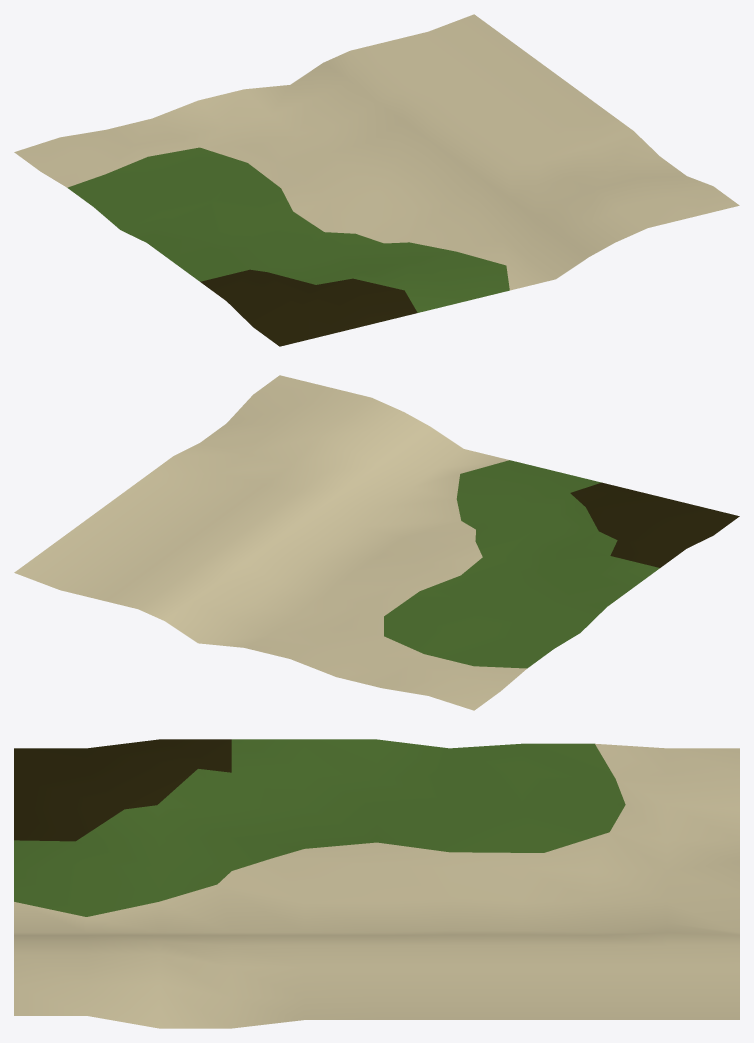
File: ENV_Terrain_01.fbx
3 views of the same model, one above another, from view 1: azimuth 30°, elevation 25°; view 2: azimuth 150°, elevation 25°; view 3: azimuth 270°, elevation 25° (orthographic). The views are drawn at different scales.
Visible parts, largest first — view 1: pPlane1; view 2: pPlane1; view 3: pPlane1.
Part boxes in pixels (x1,y1,x2,y2): pPlane1: (14, 14, 739, 346); pPlane1: (14, 375, 739, 710); pPlane1: (14, 739, 739, 1028).
Size of the model in its own units: 109 by 6.54 by 109.
